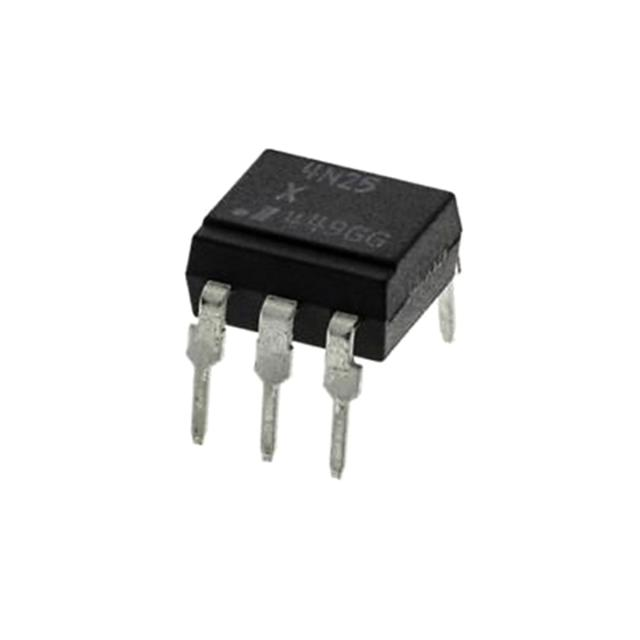IC: (186, 149, 464, 479)
